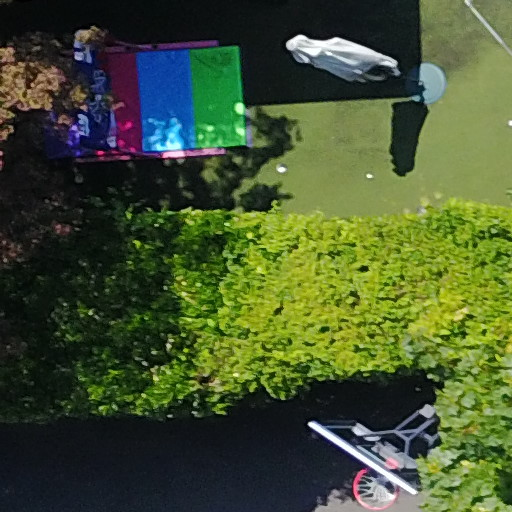basketball: (271, 357, 466, 512)
